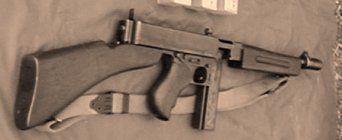rifle: (13, 12, 325, 132)
